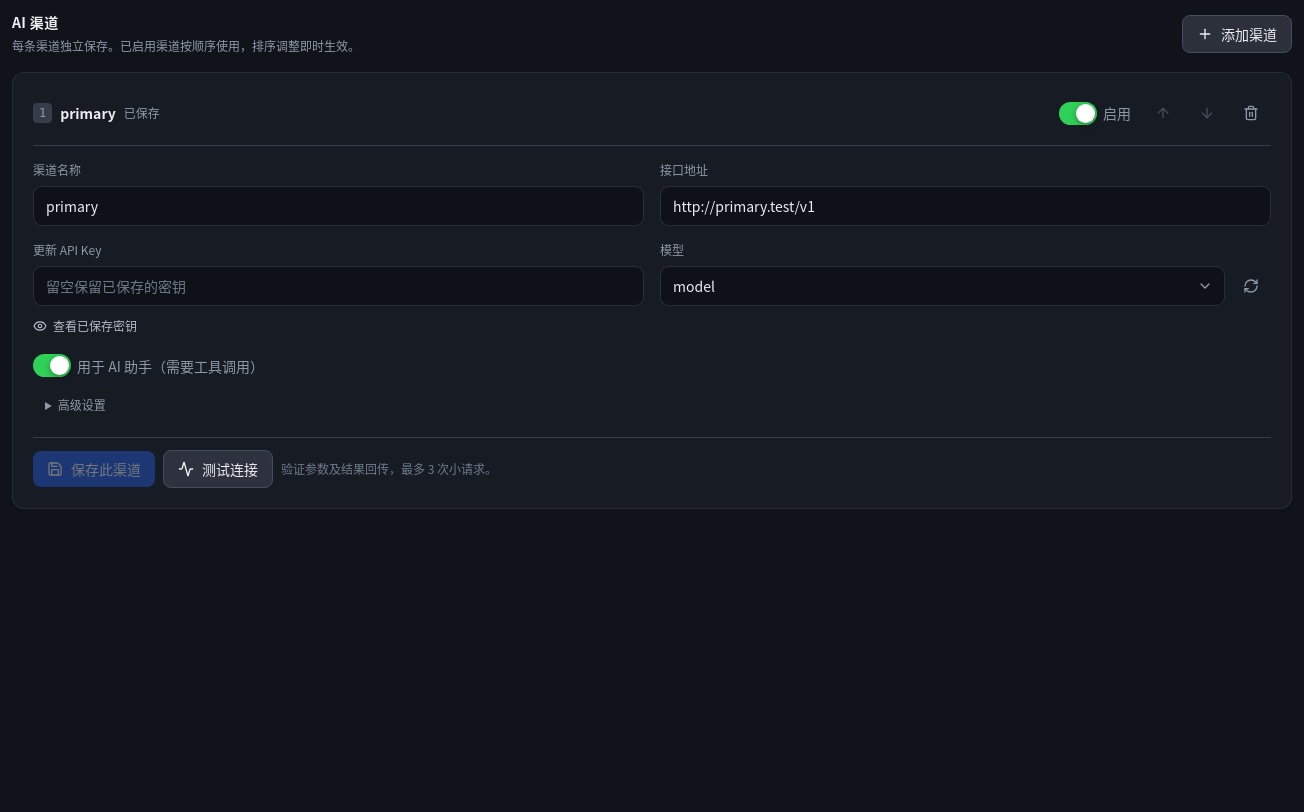
Test: AI 渠道设置 › 查看密钥与修改密钥分离，查看不弄脏配置，地址变更仍需输入
This screenshot has width=1304, height=812.
Click the button "查看已保存密钥" at (85, 326), box [33,318,137,334]
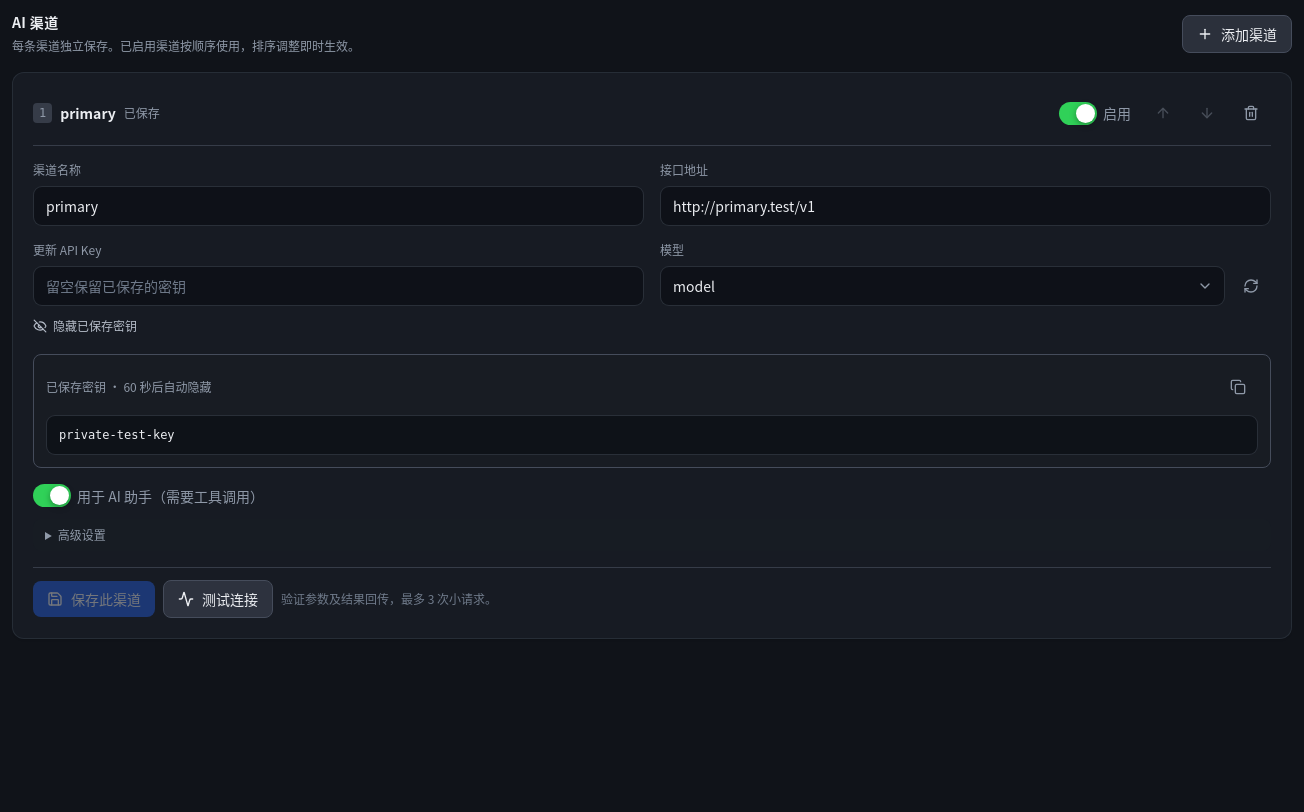
Replace the text in the field labelled "接口地址" with "http://changed.test/v1" at (966, 206), box [660,186,1271,226]
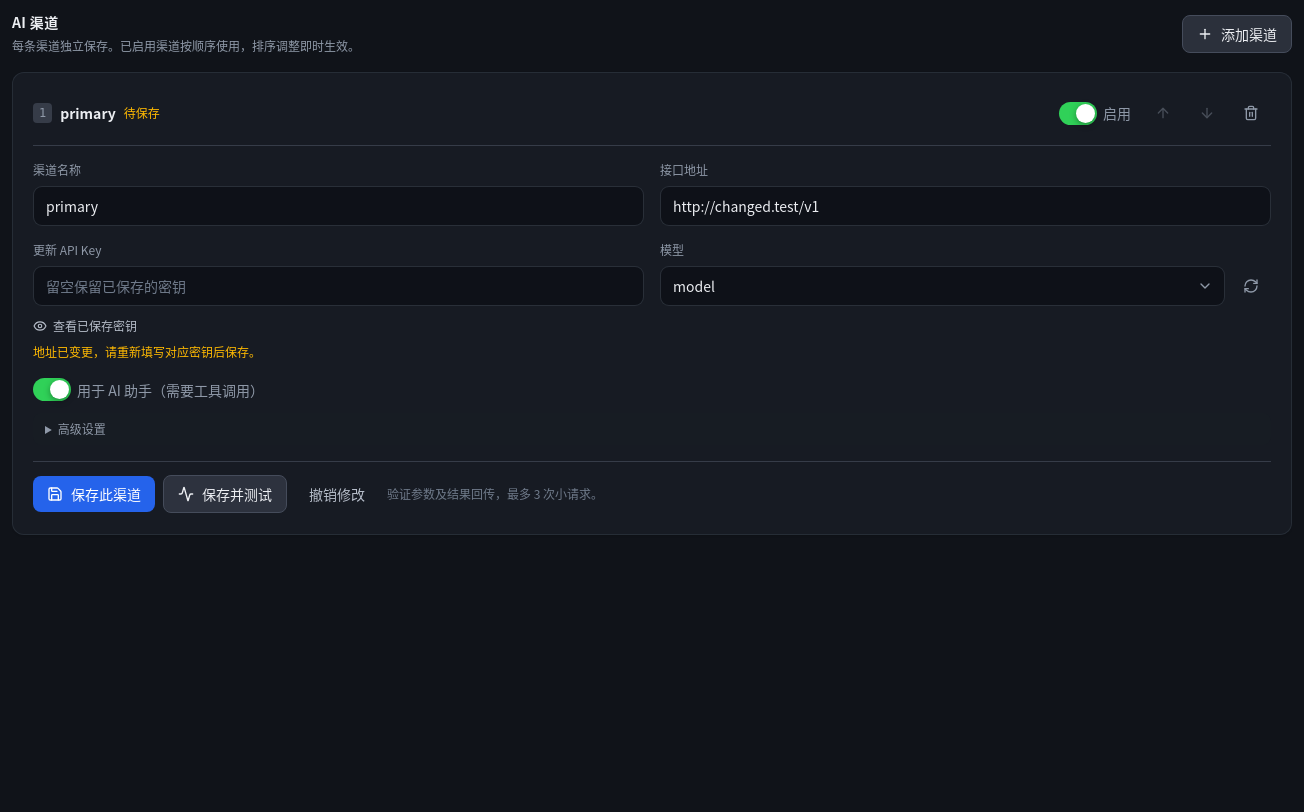
Expected: the text "重新填写对应密钥" is shown, [33,343,261,360]
